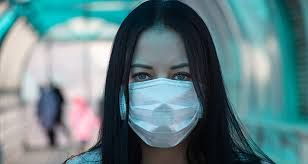with-mask: (112, 21, 218, 151)
